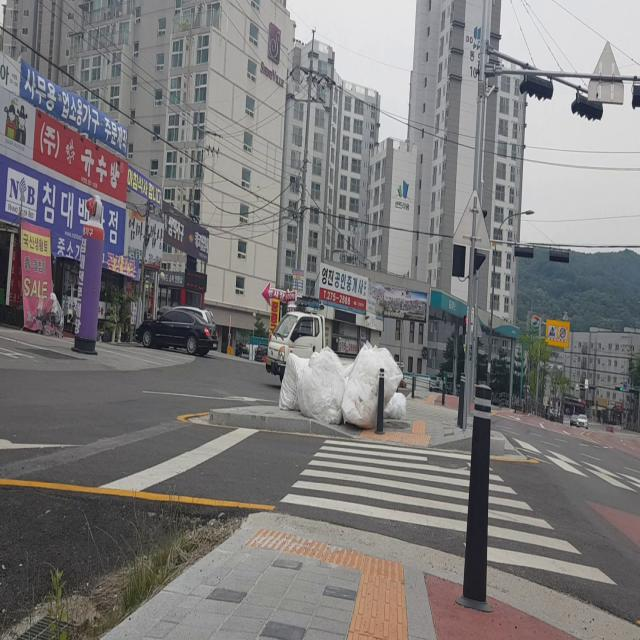횡단보도: (278, 436, 619, 588)
